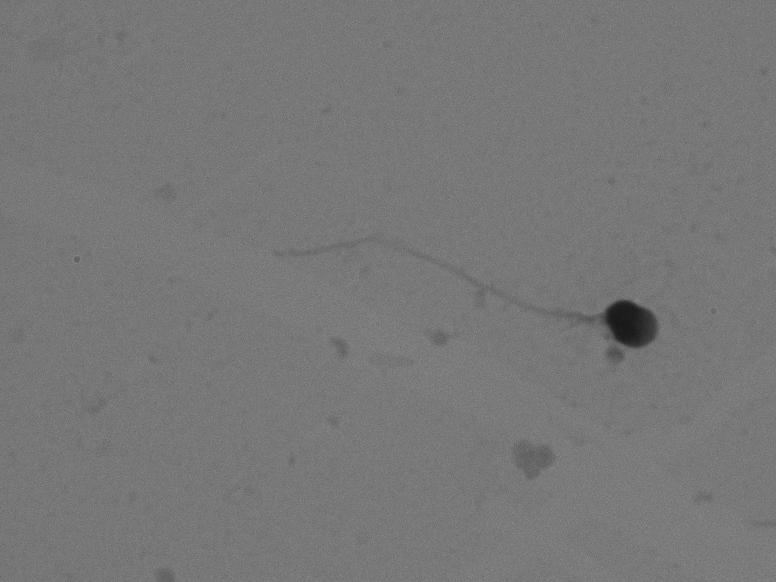Abnormal: (259, 211, 684, 368)
